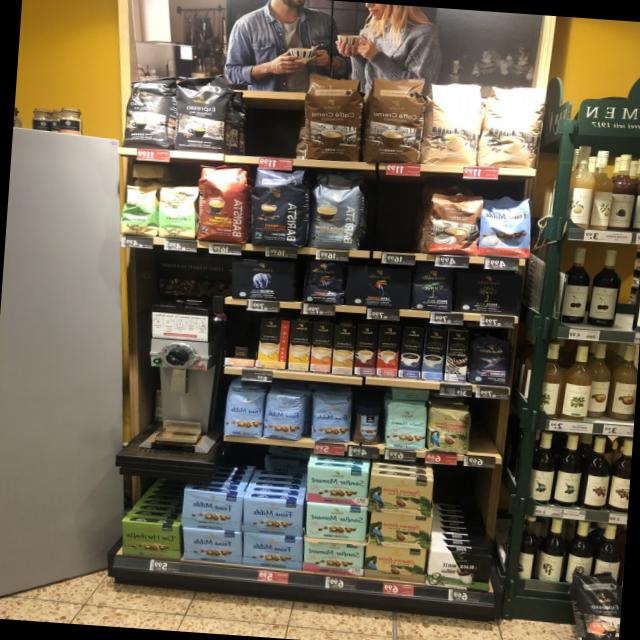AB Gemahlen: (228, 258, 295, 302)
Athiopien Bohne: (120, 182, 158, 236)
Athiopien Gemahlen: (155, 182, 198, 240)
BM Bohne: (410, 264, 453, 312)
BM Gemahlen: (452, 268, 524, 316)
BW Gemahlen: (426, 549, 494, 592)
Barista CC: (306, 170, 366, 251)
Barista Espresso: (247, 166, 307, 247)
Barista Kolumbien: (193, 163, 250, 243)
C Fino Bohne: (468, 334, 512, 386)
CC Mild: (477, 82, 548, 170), (422, 79, 484, 168)
CC Vollmundig: (425, 191, 482, 257)
CC Vollmundig 36 Pads: (362, 72, 426, 165), (301, 73, 364, 162)
Colombia BB Bohne: (426, 404, 470, 454)
Colombia BB Gemahlen: (366, 473, 434, 515), (366, 510, 433, 549), (364, 546, 426, 584)
Empty Shelf: (225, 70, 304, 158), (364, 173, 427, 253), (469, 404, 512, 458), (225, 316, 258, 358)
Espresso S Art: (172, 72, 230, 152), (121, 69, 174, 149)
FM 36 Pads: (478, 192, 532, 258)
FM Bohne: (222, 388, 265, 438), (309, 395, 352, 443), (262, 392, 303, 441)
FM Gemahlen: (179, 488, 244, 532), (240, 496, 304, 536), (240, 530, 302, 570), (180, 526, 241, 564)
FM Instant: (350, 402, 384, 446)
Herzhatfe Mundig: (120, 520, 180, 560)
LG Bohne: (303, 260, 346, 304)
LG Gemahlen: (344, 264, 413, 310)
SM Bohne: (382, 400, 428, 450)
SM Gemahlen: (304, 464, 369, 506), (304, 502, 368, 541), (302, 538, 364, 576)
Simo CCMild: (256, 317, 290, 368)
Simo CCMild bigpack: (287, 320, 312, 371)
Simo CCVollmundig bigpack: (309, 321, 333, 372)
Simo Decaff: (331, 324, 356, 374)
Simo Es Brazil: (375, 324, 401, 377)
Simo Es Caramel: (353, 324, 379, 375)
Simo Es Elegant: (444, 329, 471, 382)
Simo Es Kraft: (398, 326, 425, 379)
Simo Es Vanilla: (422, 328, 446, 380)
